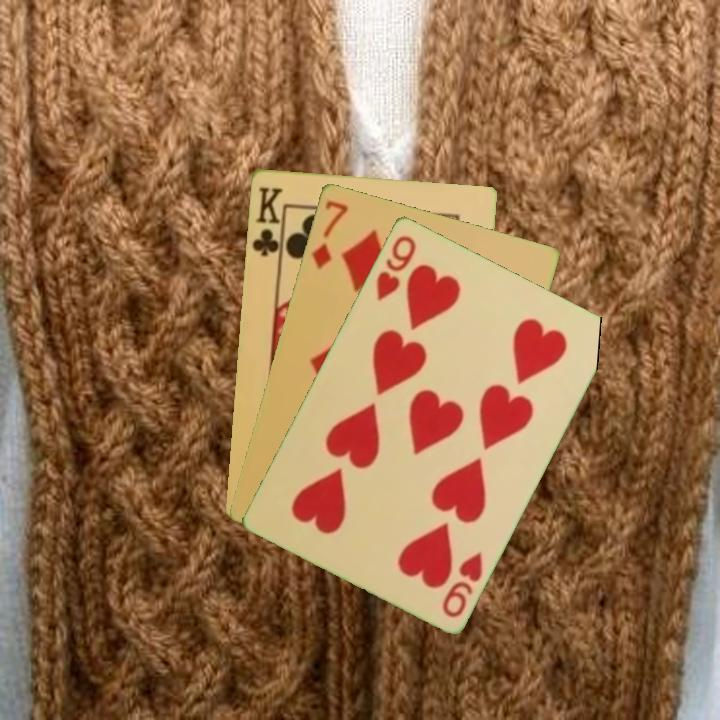7d: (308, 196, 351, 272)
9h: (438, 547, 486, 620), (372, 231, 419, 304)
Kc: (248, 183, 286, 264)
